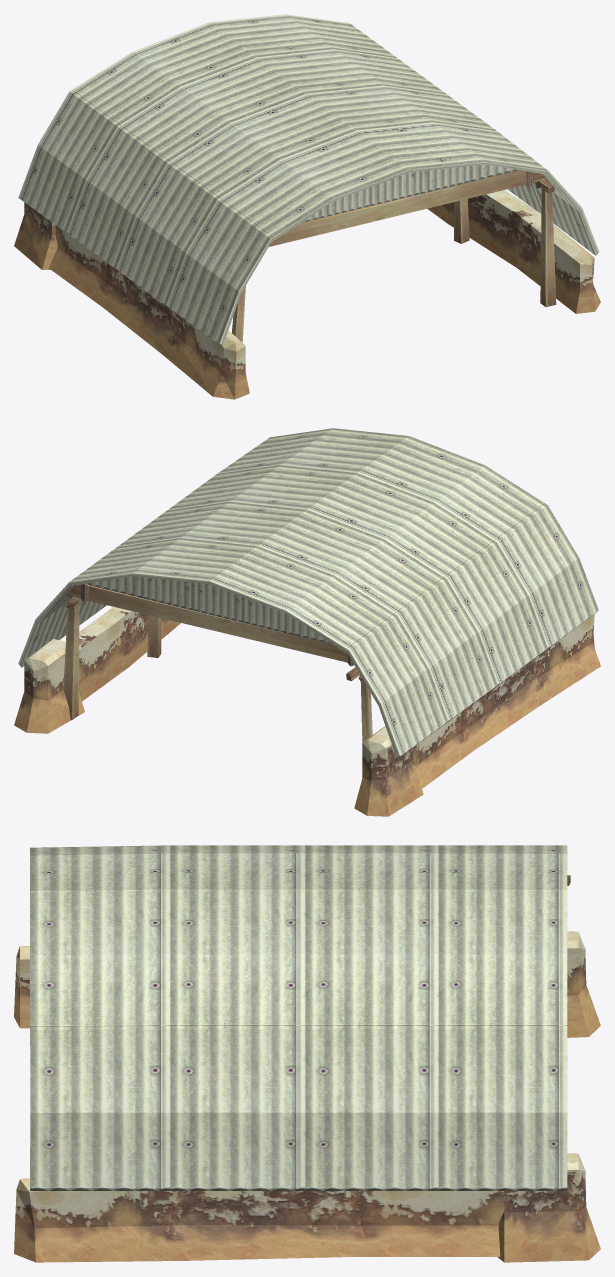
Rendered from C2SMHANGERBIG_H.obj.
3 views of the same model, one above another, from view 1: azimuth 30°, elevation 25°; view 2: azimuth 150°, elevation 25°; view 3: azimuth 270°, elevation 25° (orthographic). The views are drawn at different scales.
Visible parts, largest first — view 1: Node 0; view 2: Node 0; view 3: Node 0.
Part boxes in pixels (x1,y1,x2,y2): Node 0: [14, 14, 600, 399]; Node 0: [14, 428, 600, 816]; Node 0: [14, 845, 600, 1262].
Size of the model in its own units: 34.33 by 15.57 by 33.45.
Materials: 3 (3 with a texture image).
